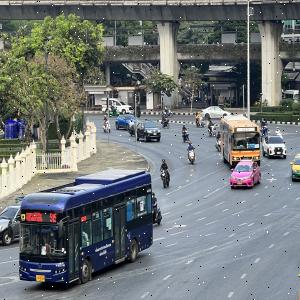BMTA-bus: (221, 115, 260, 182)
Bus Line Number: (48, 211, 58, 223), (242, 128, 250, 132)
Bus Side Number: (54, 264, 66, 268)
Destination Sign: (25, 211, 43, 223), (248, 144, 255, 148)
TSB-Bus: (18, 170, 161, 286)
